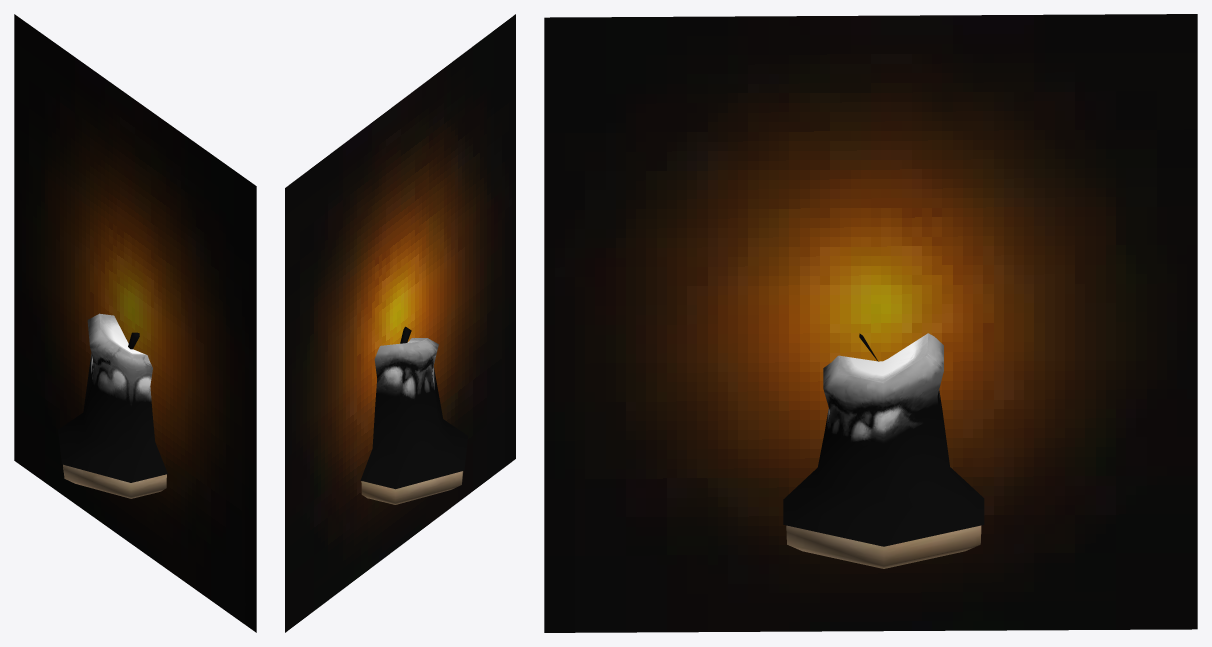
The picture shows the model from 3 angles, left to right: view 1: azimuth 30°, elevation 25°; view 2: azimuth 150°, elevation 25°; view 3: azimuth 270°, elevation 25°; orthographic projection. The views are drawn at different scales.
Size of the model in its own units: 0.5007 by 1.53 by 1.47.
3 materials, 3 textured.
